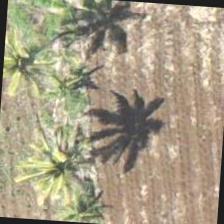Kelapa_Sawit: (11, 110, 106, 206)
